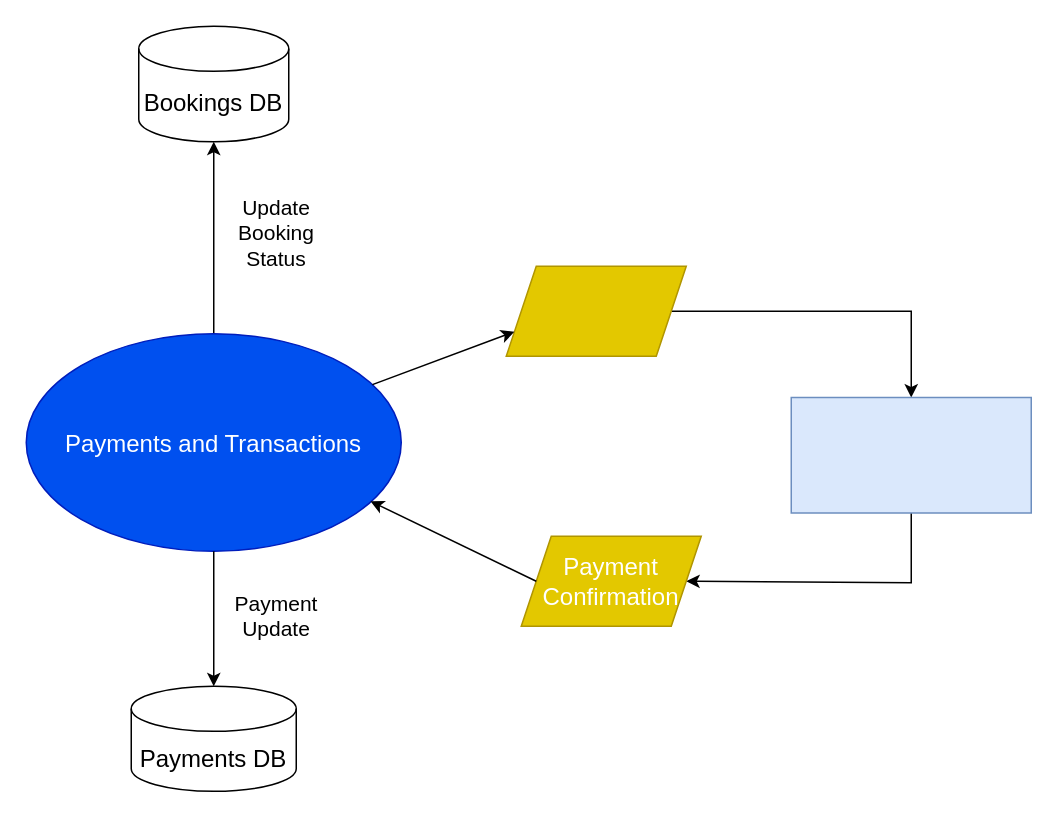
Some shapes in this 1058 by 818 pixel diagram are drawn without their labels. Each missing label, with the centre of its shape:
Payment: point 595,310
Payment Gateways: point 910,454
